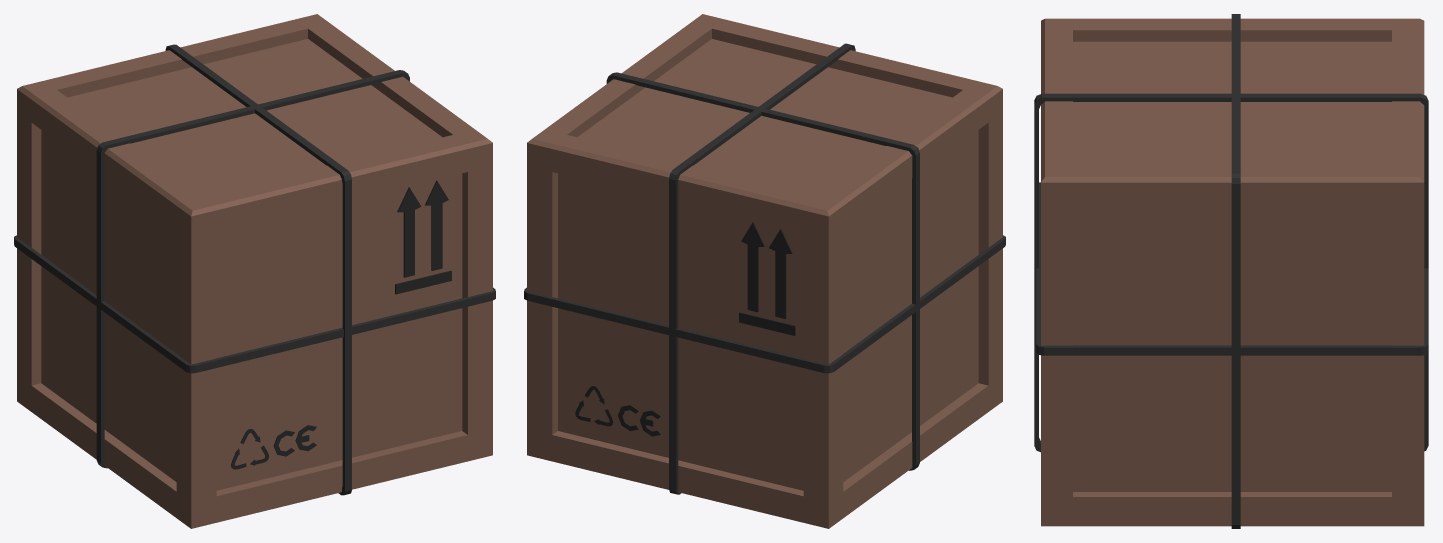
The model's file is props_07.glb.
The picture shows the model from 3 angles, left to right: view 1: azimuth 30°, elevation 25°; view 2: azimuth 150°, elevation 25°; view 3: azimuth 270°, elevation 25°; orthographic projection. The views are drawn at different scales.
Visible parts, largest first — view 1: props_07; view 2: props_07; view 3: props_07.
Boxes of the visible parts, bbox=[...] form: props_07: bbox=[14, 14, 495, 528]; props_07: bbox=[524, 14, 1005, 528]; props_07: bbox=[1034, 14, 1428, 528].
Bounding box in the file's own units: 2.05 × 2.04 × 2.06.
Materials: 1 (1 with a texture image).
